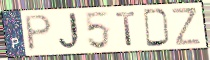5: (83, 10, 113, 51)
D: (142, 8, 172, 49)
J: (57, 11, 84, 52)
P: (23, 13, 54, 54)
T: (114, 10, 138, 47)
Z: (170, 7, 202, 47)
